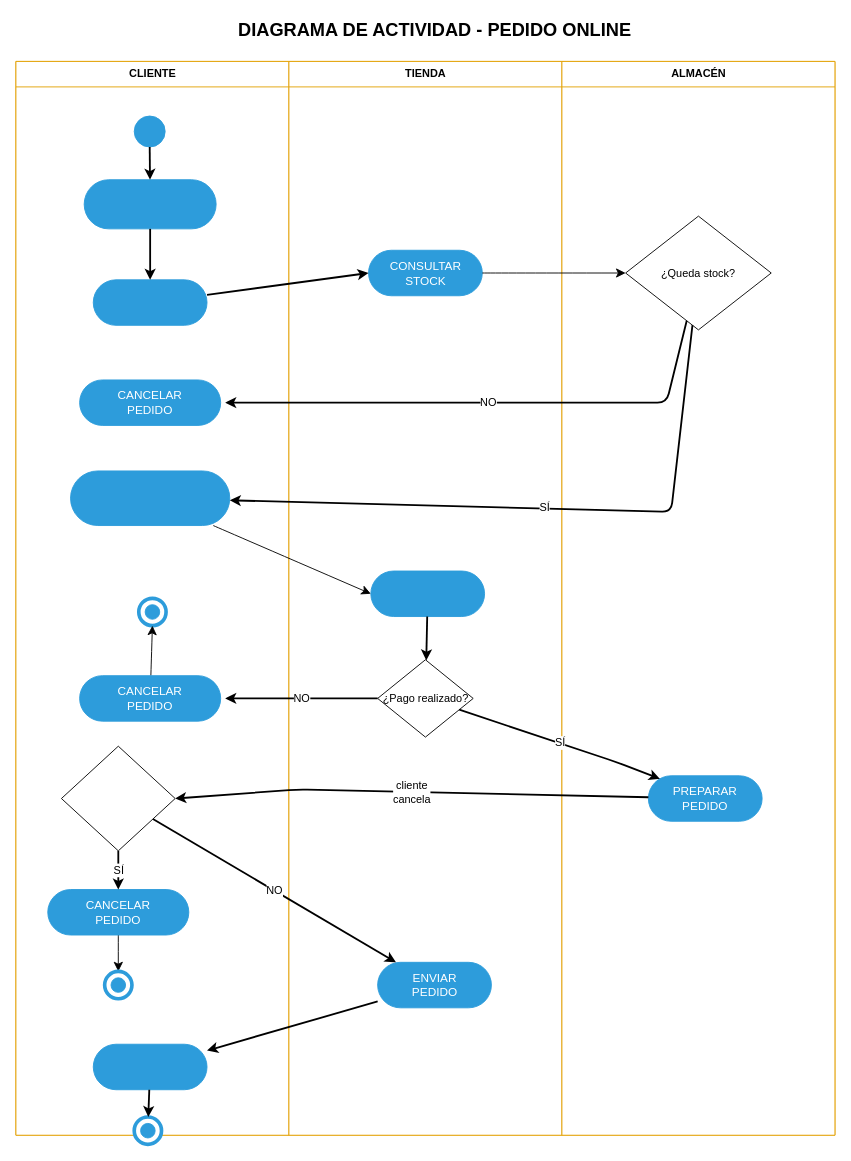
Some shapes in this 851 by 1161 pixel diagram are drawn without their labels. The centre of each missing label's shape, as x and y in pixels:
"AÑADIR AL CARRITO" goes at (149,302).
"CONFIRMAR PEDIDO" goes at (150,498).
"ENTREGAR PEDIDO" goes at (149,1066).
"SELECCIONAR PRODUCTO" goes at (149,204).
"SOLICITAR PAGO" goes at (427,593).
"¿Cancelar el pedido?" goes at (118,798).
